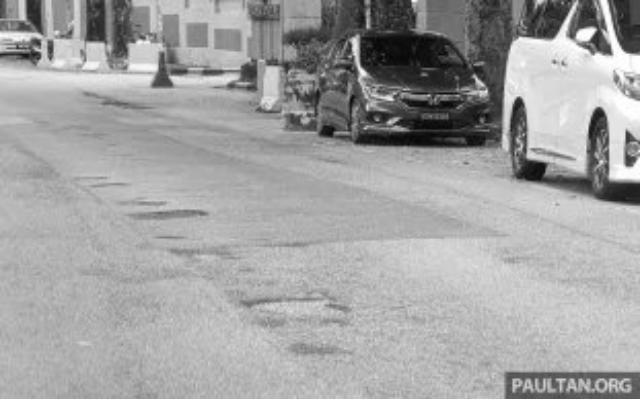Pothole: (235, 292, 351, 322), (169, 242, 241, 264), (125, 205, 208, 221), (92, 180, 126, 190), (76, 172, 106, 182)
